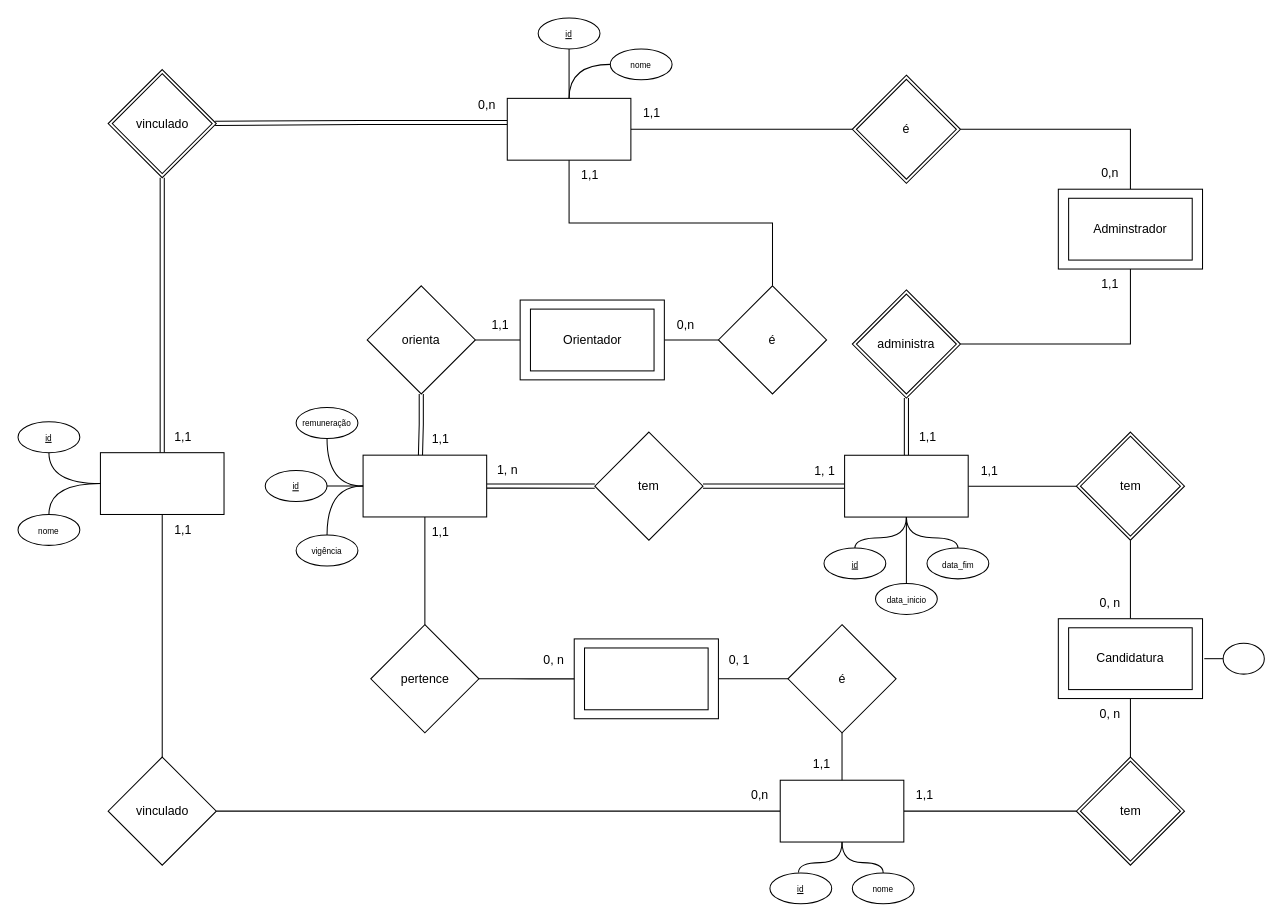
This 1282x922 diagram has some shape labels left out. Here are the shapes that lost their labels. From the top down, the box of each, then its label:
(506, 97, 631, 160): Professor
(99, 452, 224, 514): Instituto
(362, 454, 487, 517): Bolsa
(844, 454, 968, 517): ProcessoSeletivo
(1222, 642, 1264, 674): data
(583, 647, 708, 710): Bolsista
(779, 779, 904, 842): Aluno
